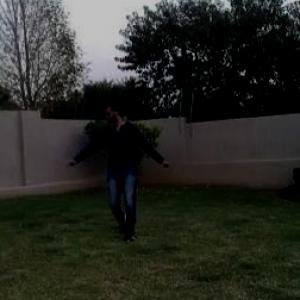land: (54, 81, 175, 248)
